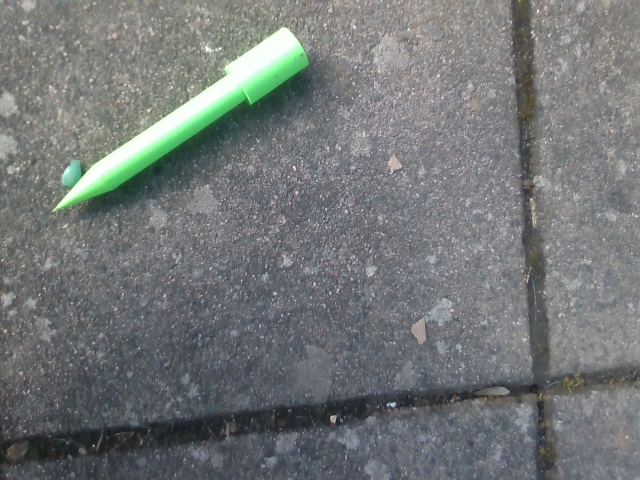Probe: (48, 18, 319, 217)
